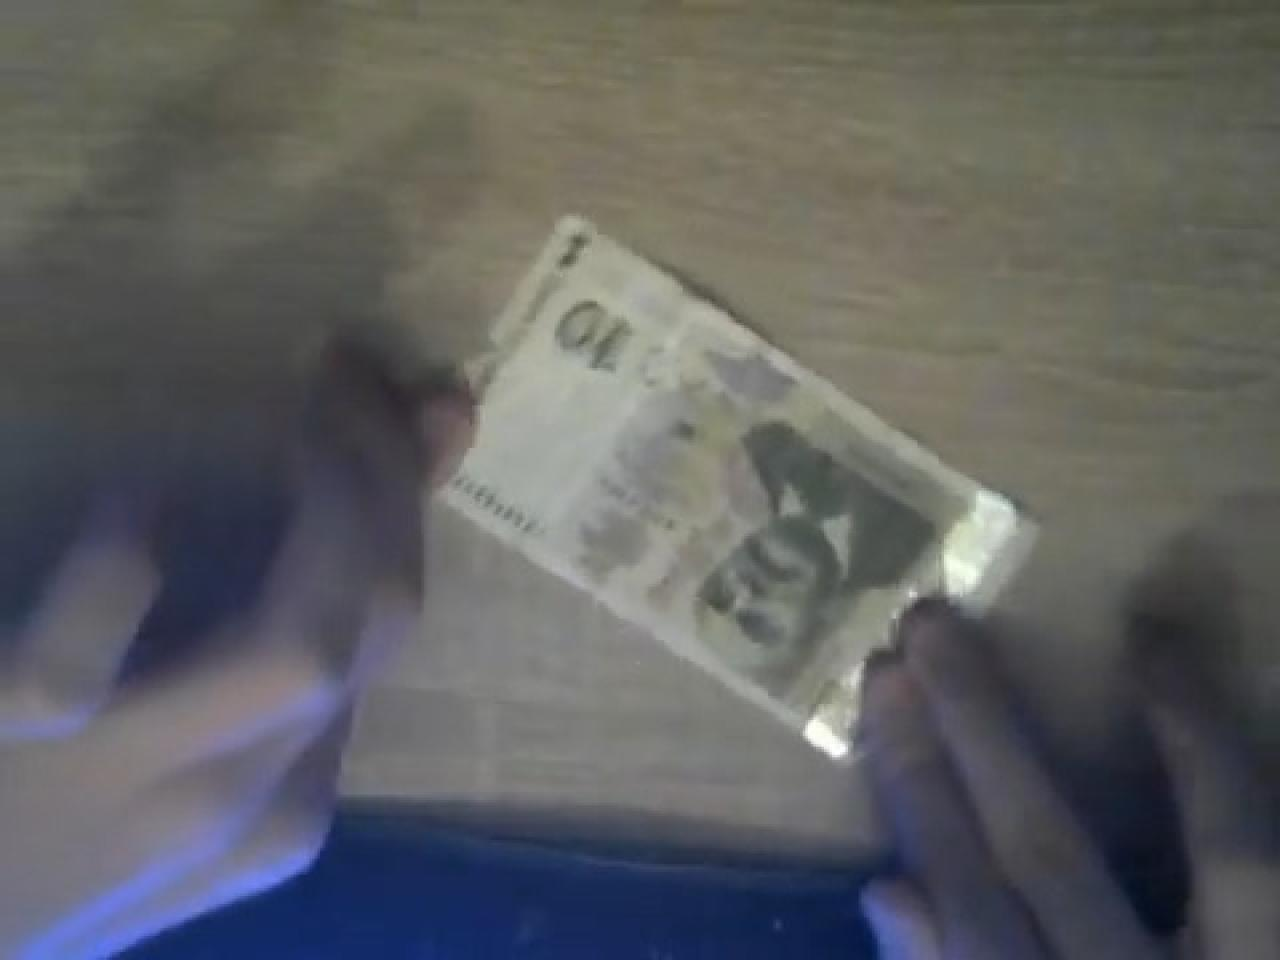10leva: (440, 208, 1043, 760)
